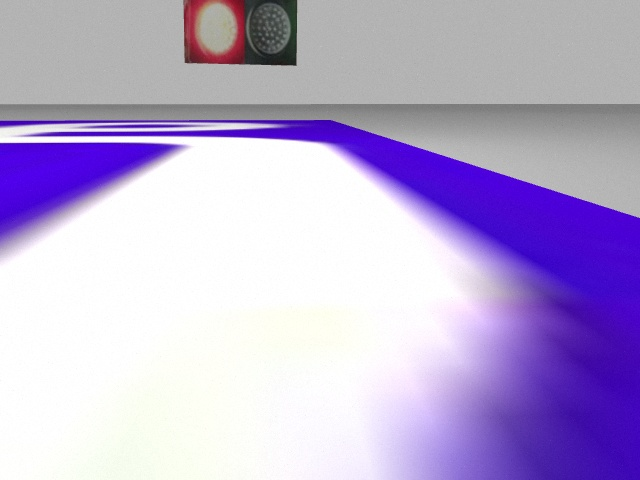red: (184, 1, 246, 63)
